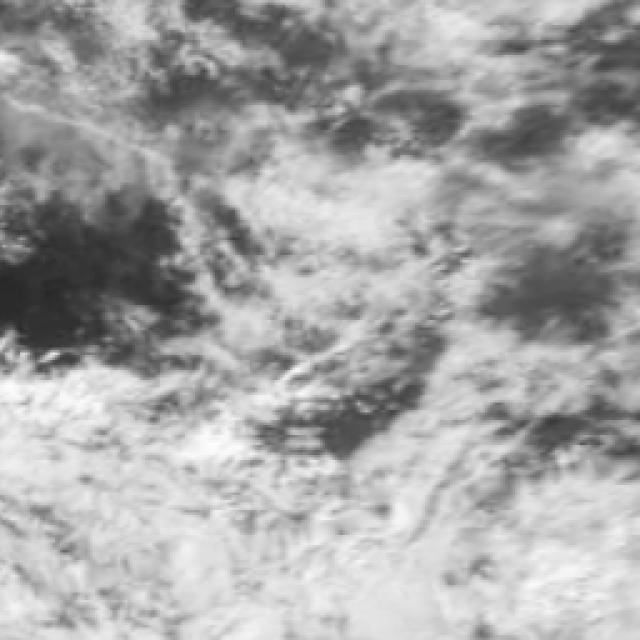CB: (225, 462, 450, 640), (0, 472, 223, 640), (444, 469, 640, 640), (0, 374, 138, 528)
